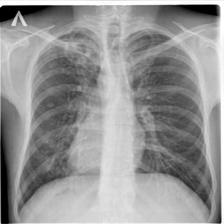tuberculosis: (13, 23, 215, 219)
